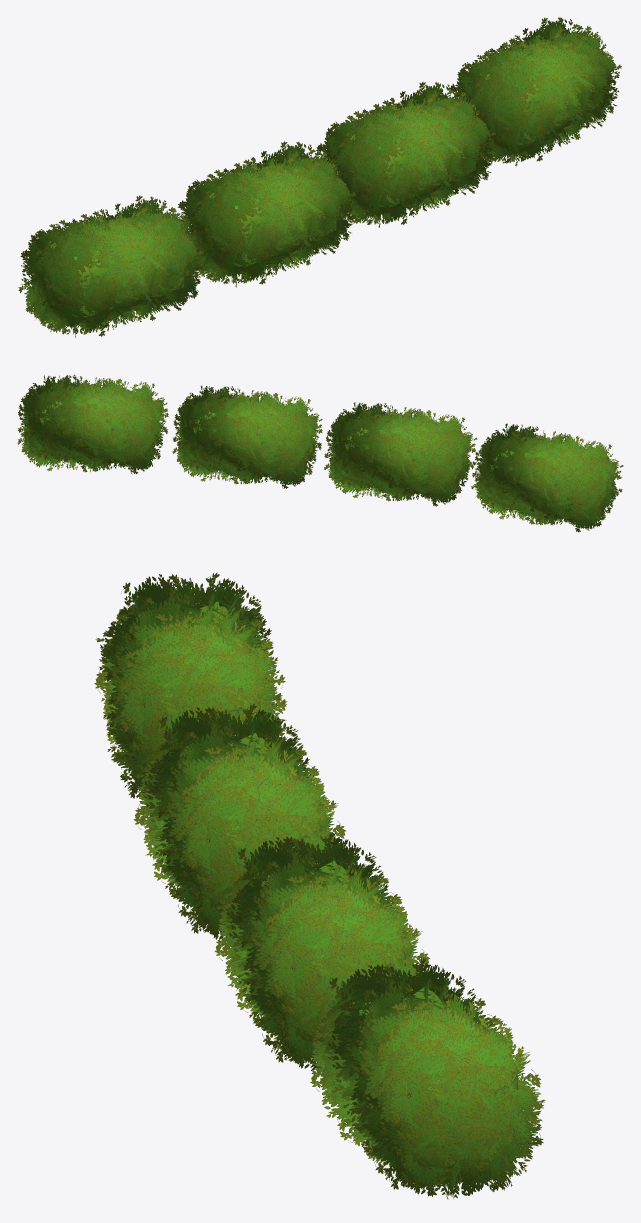
File: SM_Bush06_Splines_10.fbx
3 renders of one model, top to bottom at view 1: azimuth 30°, elevation 25°; view 2: azimuth 150°, elevation 25°; view 3: azimuth 270°, elevation 25°, orthographic. The views are drawn at different scales.
Visible parts, largest first — view 1: SM_Bush06_Splines_10_LOD0; view 2: SM_Bush06_Splines_10_LOD0; view 3: SM_Bush06_Splines_10_LOD0.
Part boxes in pixels (bbox=[...]): SM_Bush06_Splines_10_LOD0: bbox=[18, 17, 621, 337]; SM_Bush06_Splines_10_LOD0: bbox=[17, 375, 623, 532]; SM_Bush06_Splines_10_LOD0: bbox=[94, 572, 545, 1199].
Bounding box in the file's own units: 1027 × 385 × 166.
